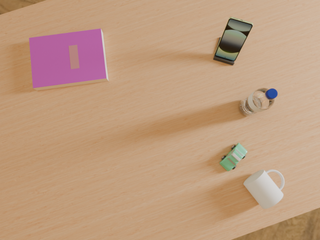book: (29, 29, 108, 90)
bottle: (239, 87, 278, 116)
cup: (244, 170, 284, 209)
phone: (215, 17, 253, 61)
toy_car: (220, 143, 247, 171)
